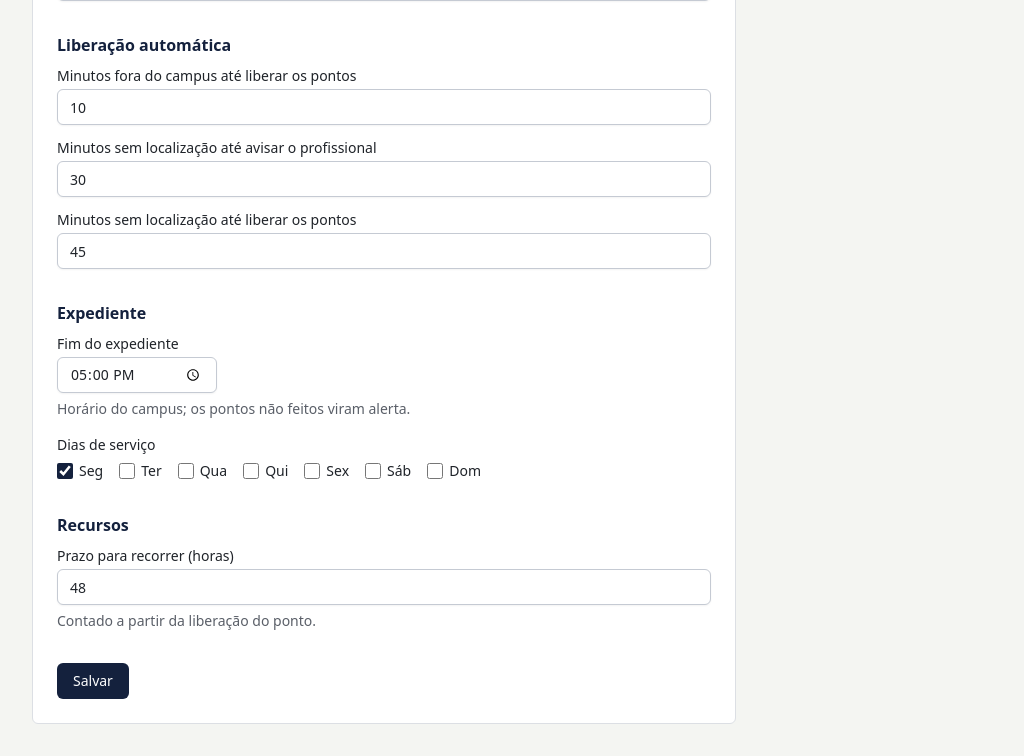
Test case: SettingsPage › blocks submit when no service day is left
(page scrolled)
Click the checkbox labelled "Seg". click: (65, 471)
box: x1=57 y1=463 x2=73 y2=479
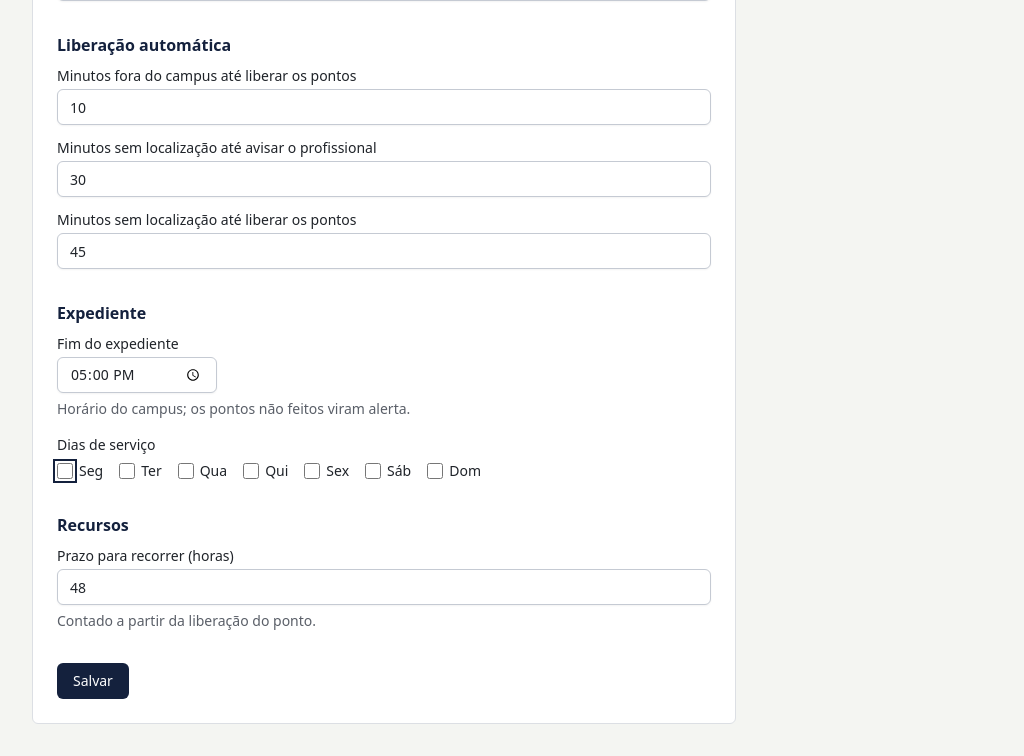
Click the button "Salvar". click: (93, 681)
box: x1=57 y1=663 x2=129 y2=699
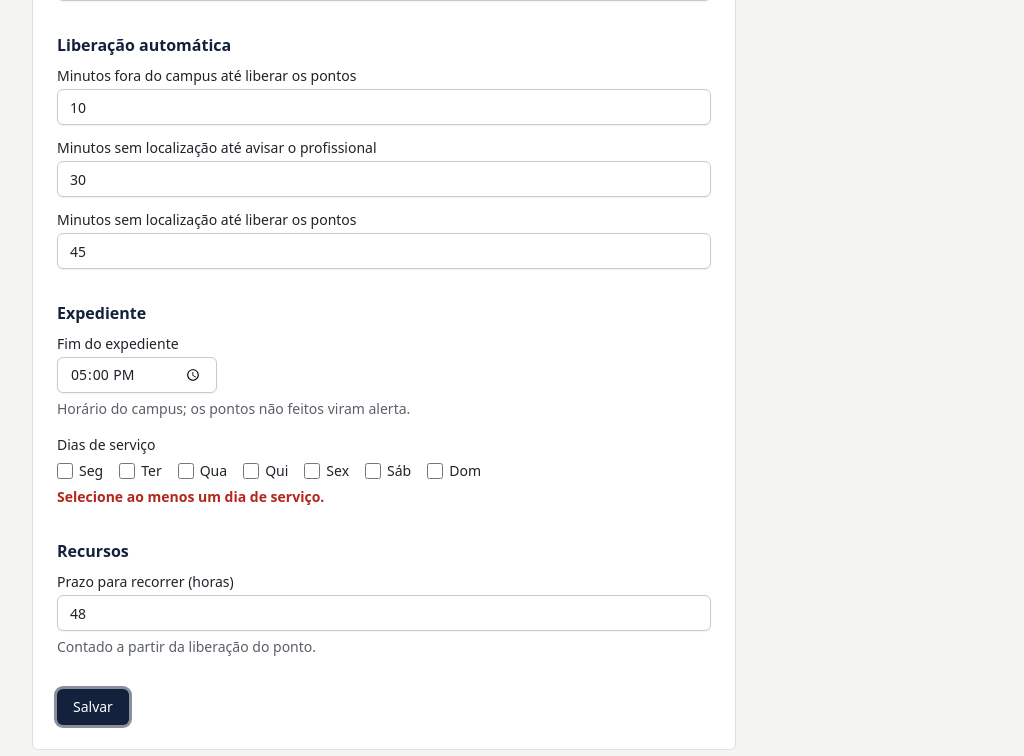
Expected: the text "Selecione ao menos um dia de serviço." is shown, x1=57 y1=487 x2=324 y2=506
